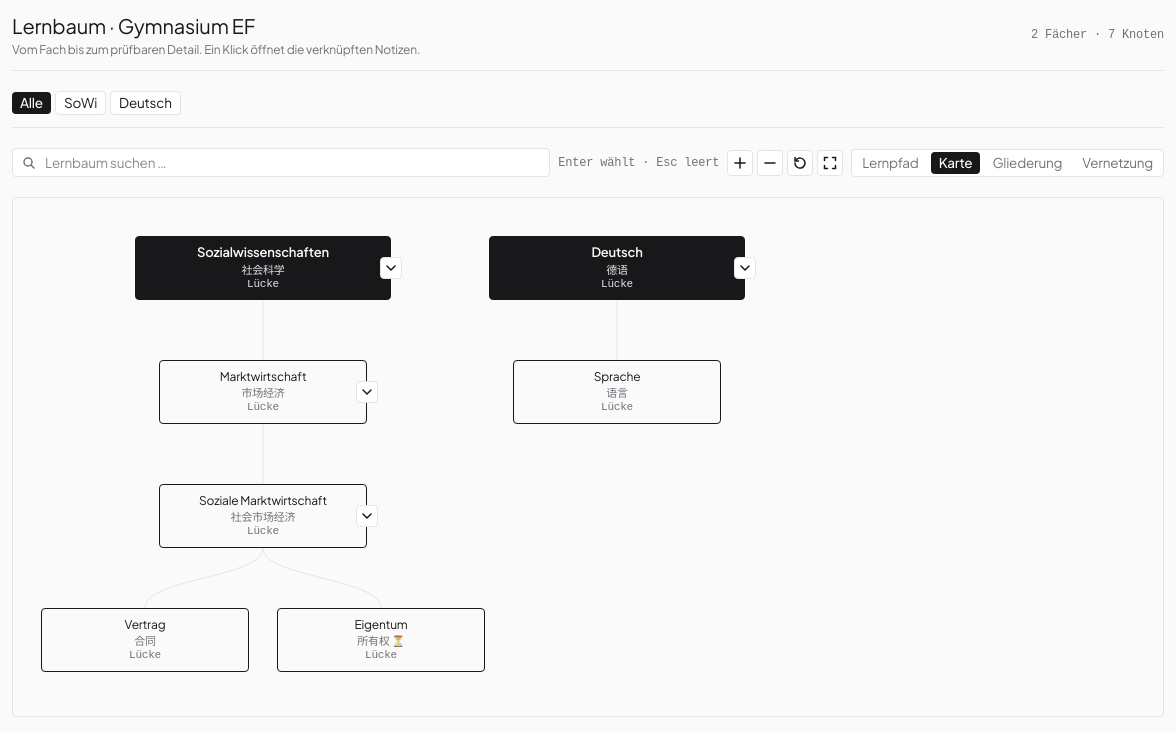
Test: Lernbaum Übersicht › meldet ehrlich Lücke ohne Vault-Anbindung
Click the button with aria-label "Vertrag · 合同".
click(145, 640)  # box [41,608,249,672]
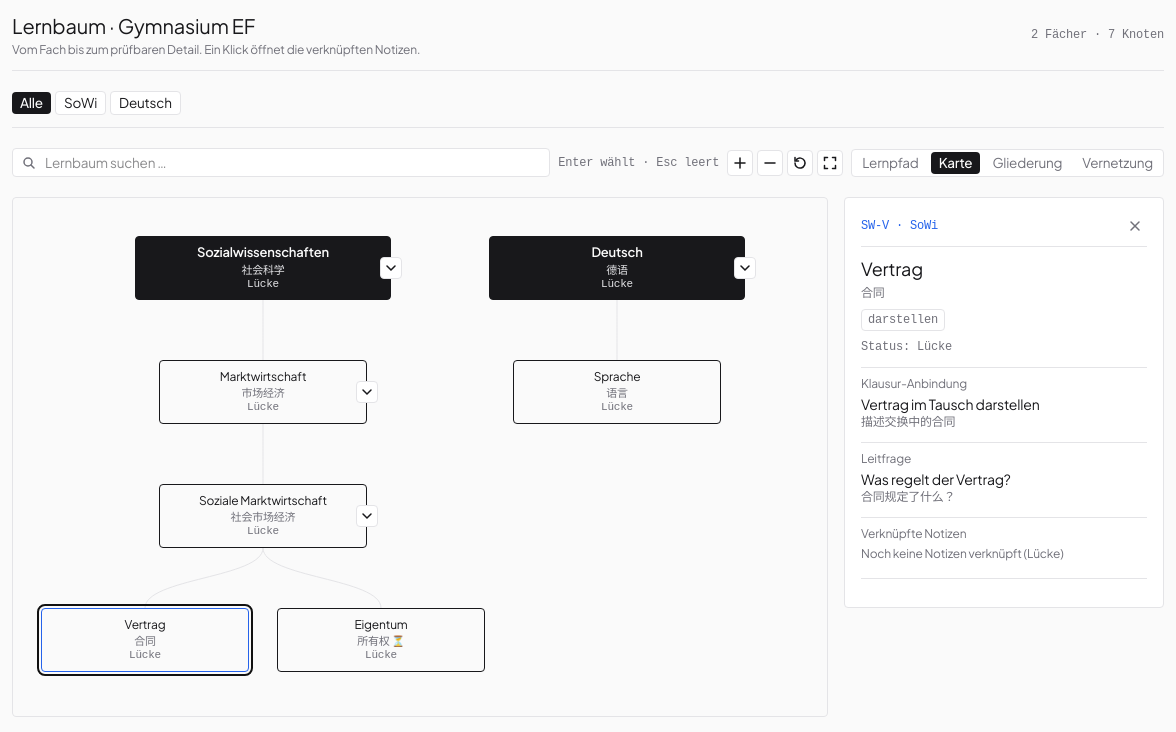
expect the text "Status: Lücke" is shown 2 times: met, box [861,340,952,354]; [861,546,1064,561]
expect the text "Noch keine Notizen verknüpft (Lücke)" is shown: met, box [861,546,1064,561]
